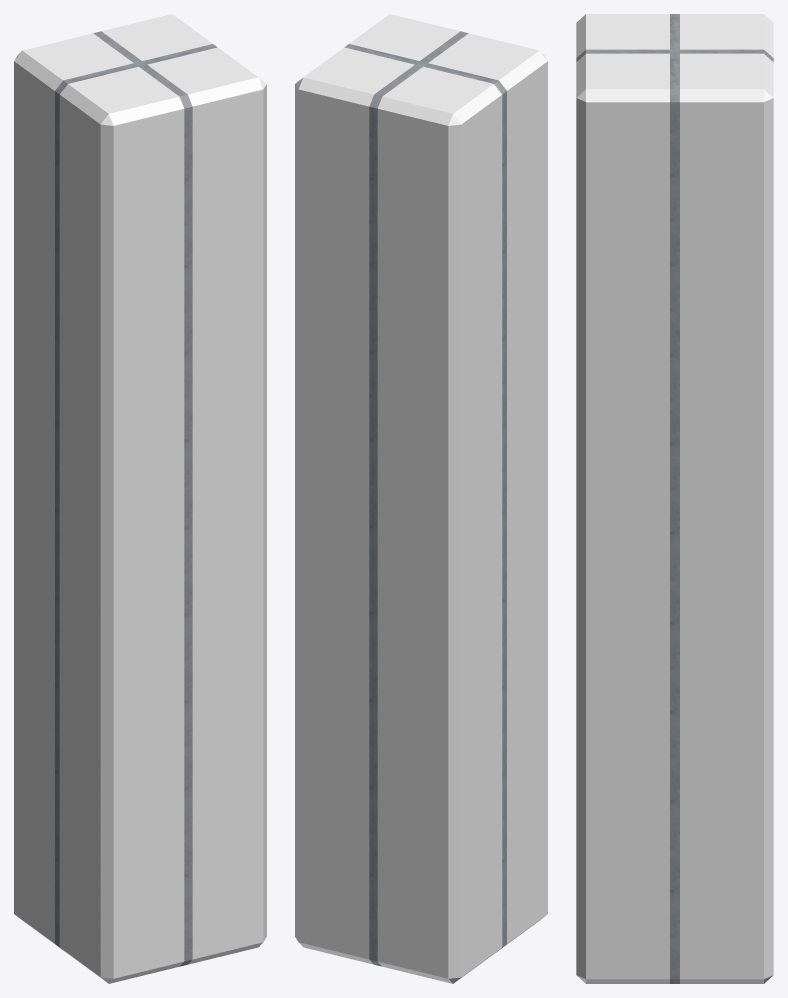
The model's file is Thresher-Room-Pillar-2-End.obj.
3 renders of one model, left to right at view 1: azimuth 30°, elevation 25°; view 2: azimuth 150°, elevation 25°; view 3: azimuth 270°, elevation 25°, orthographic. The views are drawn at different scales.
Visible parts, largest first — view 1: Thresher-Room-Pillar-2-End; view 2: Thresher-Room-Pillar-2-End; view 3: Thresher-Room-Pillar-2-End.
Part boxes in pixels (x1,y1,x2,y2): Thresher-Room-Pillar-2-End: (14, 14, 266, 983); Thresher-Room-Pillar-2-End: (295, 14, 547, 983); Thresher-Room-Pillar-2-End: (576, 14, 773, 983).
Size of the model in its own units: 2 by 10 by 2.
